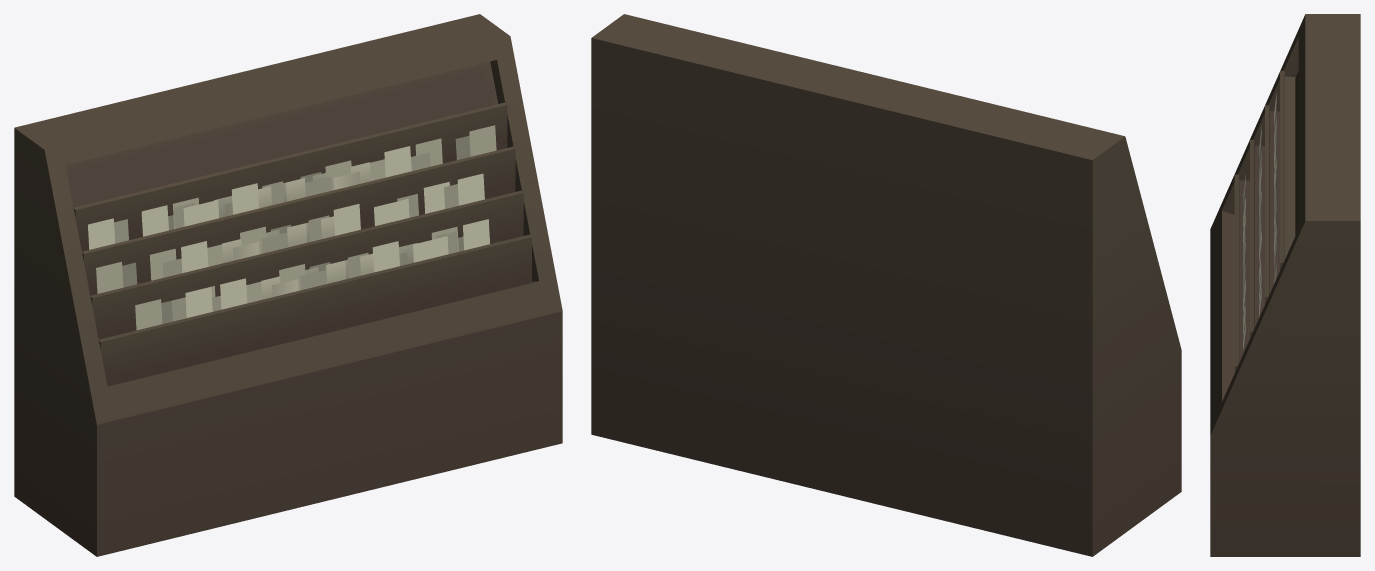
File: Giftcard Shelf.fbx
The picture shows the model from 3 angles, left to right: view 1: azimuth 30°, elevation 25°; view 2: azimuth 150°, elevation 25°; view 3: azimuth 270°, elevation 25°; orthographic projection. The views are drawn at different scales.
Parts seen in each view (by area): view 1: Gift card shelf; view 2: Gift card shelf; view 3: Gift card shelf.
Part boxes in pixels (box(x1,y1,x2,y2)): Gift card shelf: box(14, 14, 562, 556); Gift card shelf: box(591, 14, 1181, 556); Gift card shelf: box(1210, 14, 1360, 556).
Size of the model in its own units: 2.75 by 2.08 by 0.8461.
1 material, 1 textured.
